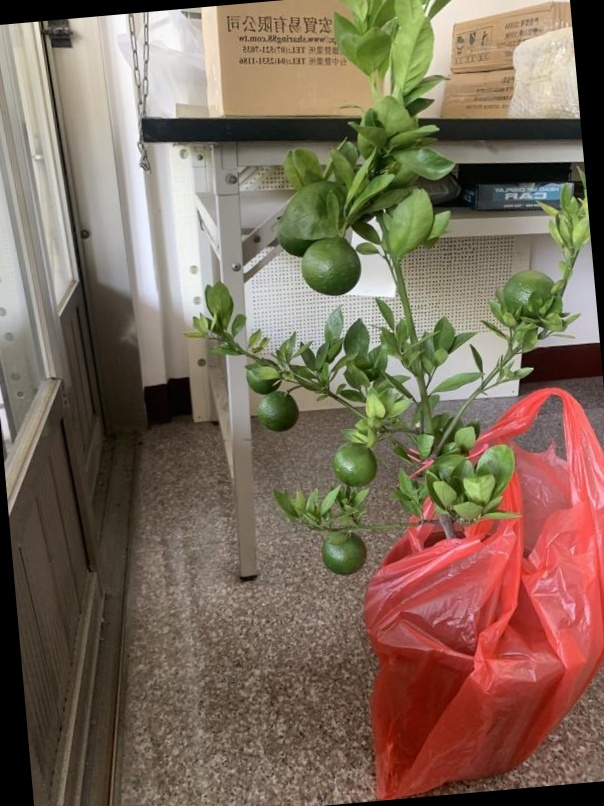Tangerine: (304, 237, 361, 299), (502, 266, 559, 320), (321, 528, 370, 577), (333, 436, 379, 485), (258, 391, 300, 432)
